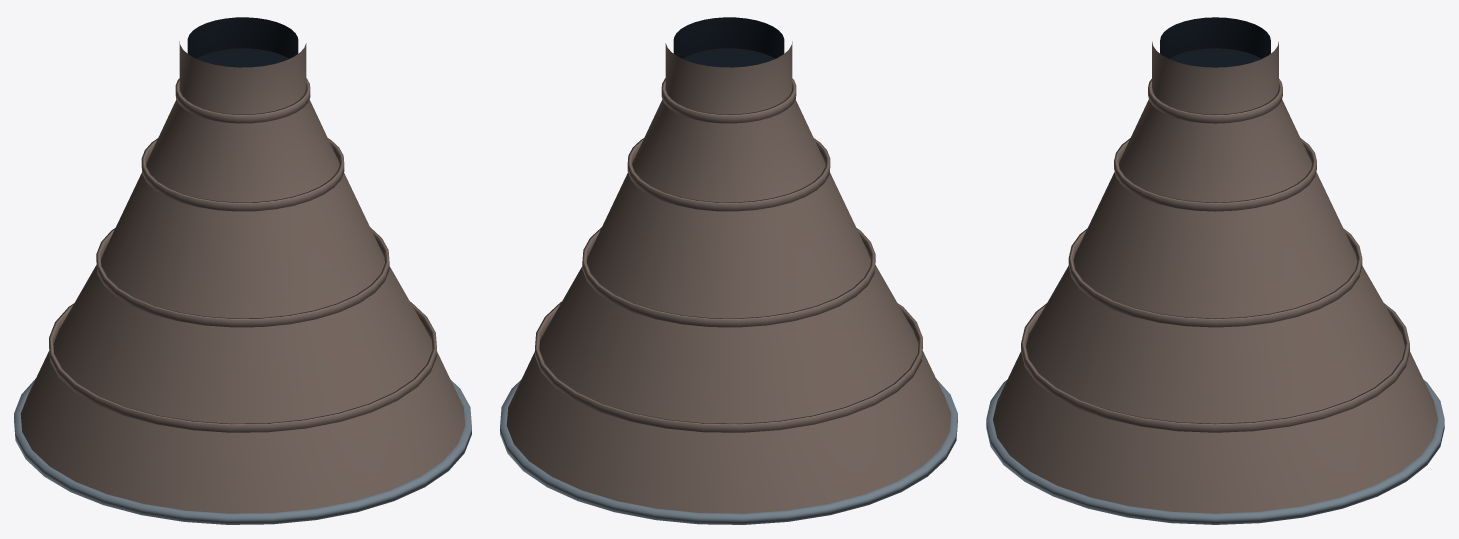
File: dart_propulsion.hydrazine_cluster_04.thruster_01.glb
The picture shows the model from 3 angles, left to right: view 1: azimuth 30°, elevation 25°; view 2: azimuth 150°, elevation 25°; view 3: azimuth 270°, elevation 25°; orthographic projection.
Visible parts, largest first — view 1: dart_propulsion.hydrazine_cluster_04.thruster_01.bell.mesh_H, dart_propulsion.hydrazine_cluster_04.thruster_01.bell.mesh_M, dart_propulsion.hydrazine_cluster_04.thruster_01.bell.mesh_S; view 2: dart_propulsion.hydrazine_cluster_04.thruster_01.bell.mesh_H, dart_propulsion.hydrazine_cluster_04.thruster_01.bell.mesh_M, dart_propulsion.hydrazine_cluster_04.thruster_01.bell.mesh_S; view 3: dart_propulsion.hydrazine_cluster_04.thruster_01.bell.mesh_H, dart_propulsion.hydrazine_cluster_04.thruster_01.bell.mesh_M, dart_propulsion.hydrazine_cluster_04.thruster_01.bell.mesh_S.
Part boxes in pixels (left/top/right/bottom): dart_propulsion.hydrazine_cluster_04.thruster_01.bell.mesh_H: left=20, top=41, right=465, bottom=513; dart_propulsion.hydrazine_cluster_04.thruster_01.bell.mesh_M: left=14, top=378, right=471, bottom=524; dart_propulsion.hydrazine_cluster_04.thruster_01.bell.mesh_S: left=187, top=17, right=298, bottom=67; dart_propulsion.hydrazine_cluster_04.thruster_01.bell.mesh_H: left=506, top=41, right=951, bottom=513; dart_propulsion.hydrazine_cluster_04.thruster_01.bell.mesh_M: left=500, top=378, right=957, bottom=524; dart_propulsion.hydrazine_cluster_04.thruster_01.bell.mesh_S: left=673, top=17, right=784, bottom=67; dart_propulsion.hydrazine_cluster_04.thruster_01.bell.mesh_H: left=993, top=41, right=1437, bottom=513; dart_propulsion.hydrazine_cluster_04.thruster_01.bell.mesh_M: left=986, top=379, right=1444, bottom=524; dart_propulsion.hydrazine_cluster_04.thruster_01.bell.mesh_S: left=1160, top=17, right=1270, bottom=67.
Bounding box in the file's own units: 0.0708 × 0.066 × 0.0708.
